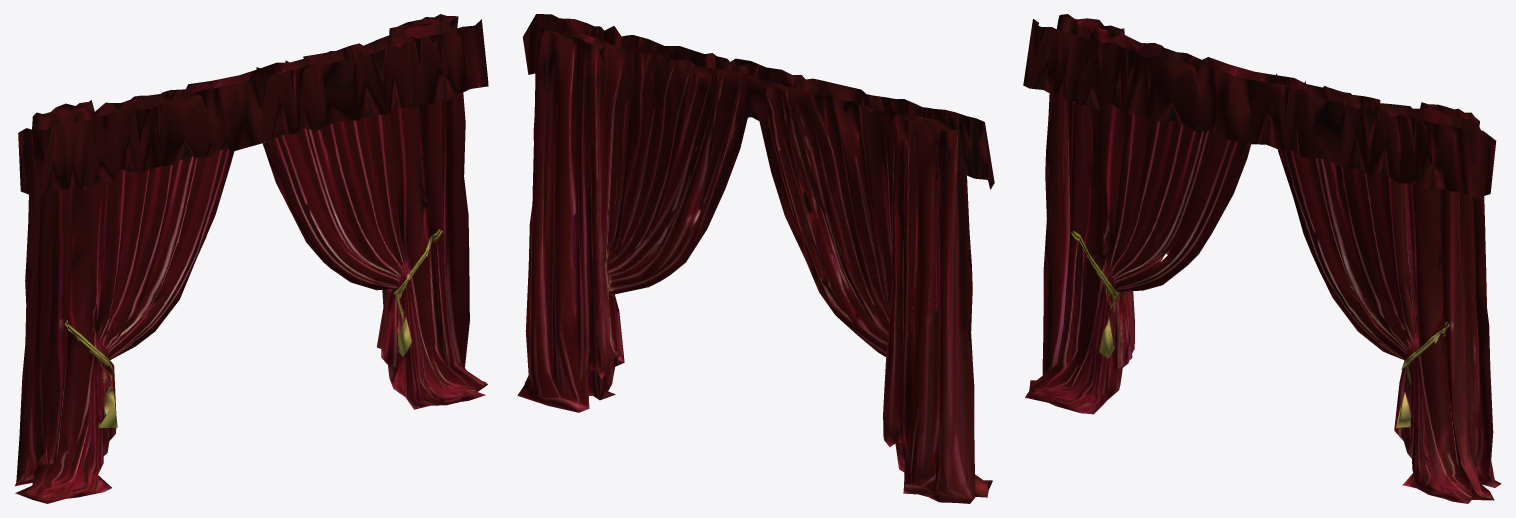
Rendered from Meshy_AI_Opening_Night_0403034520_texture.fbx.
3 renders of one model, left to right at view 1: azimuth 30°, elevation 25°; view 2: azimuth 150°, elevation 25°; view 3: azimuth 330°, elevation 25°, orthographic.
Visible parts, largest first — view 1: Mesh_0; view 2: Mesh_0; view 3: Mesh_0.
Boxes of the visible parts, <box> form: Mesh_0: <box>15,14,488,503</box>; Mesh_0: <box>517,14,994,503</box>; Mesh_0: <box>1023,14,1501,503</box>.
Size of the model in its own units: 189 by 144 by 25.42.
1 material, 1 textured.
